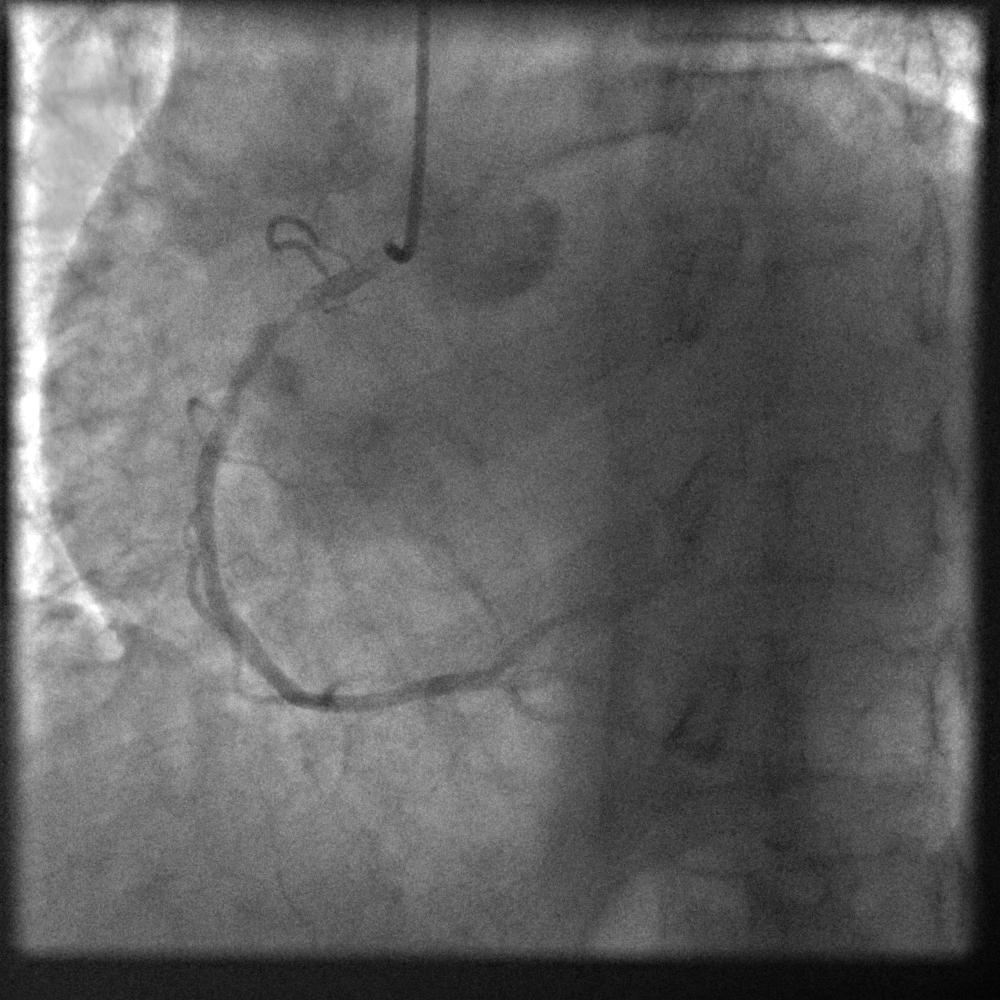Stenosis: (263, 298, 324, 332)
